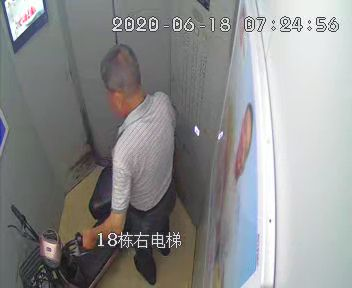Electric-bicycle: (7, 161, 121, 288)
